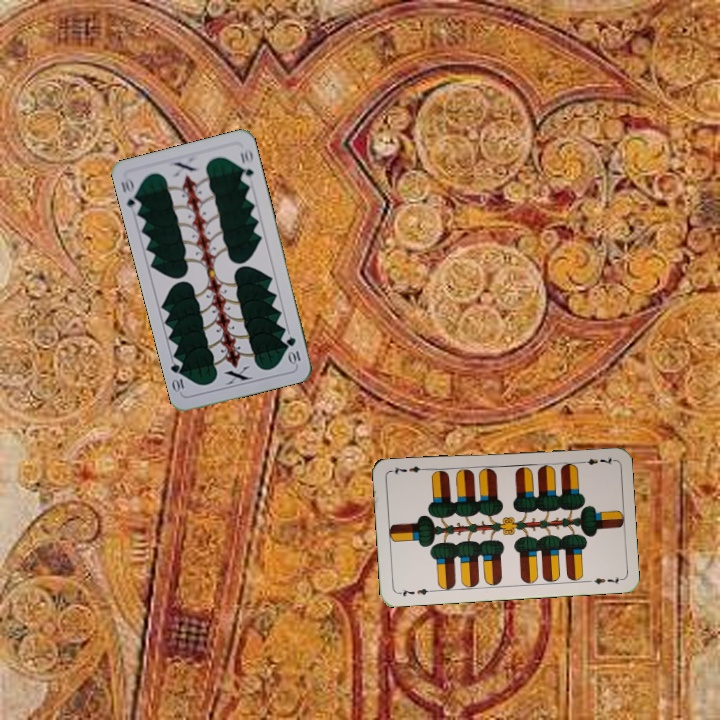E7: (575, 453, 616, 468), (394, 585, 435, 599)
G10: (117, 175, 143, 215), (282, 333, 303, 367)
